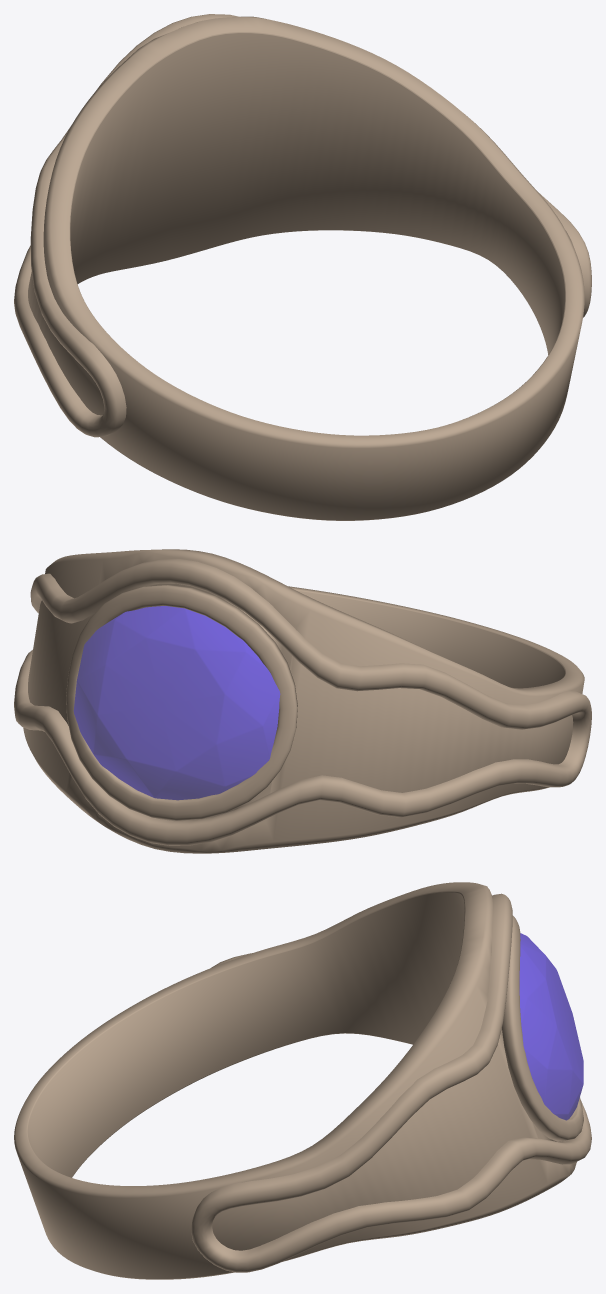
Rendered from pgww9k15o9.glb.
The picture shows the model from 3 angles, top to bottom: view 1: azimuth 30°, elevation 25°; view 2: azimuth 150°, elevation 25°; view 3: azimuth 270°, elevation 25°; orthographic projection. The views are drawn at different scales.
Size of the model in its own units: 0.9979 by 0.62 by 1.02.
